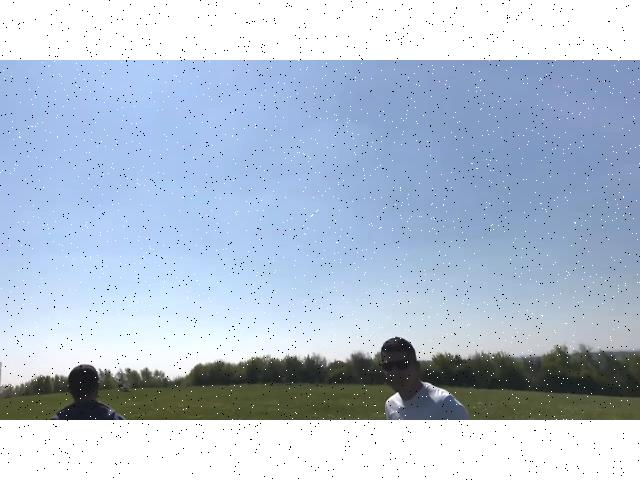Anti-Drone: (310, 208, 320, 220)
